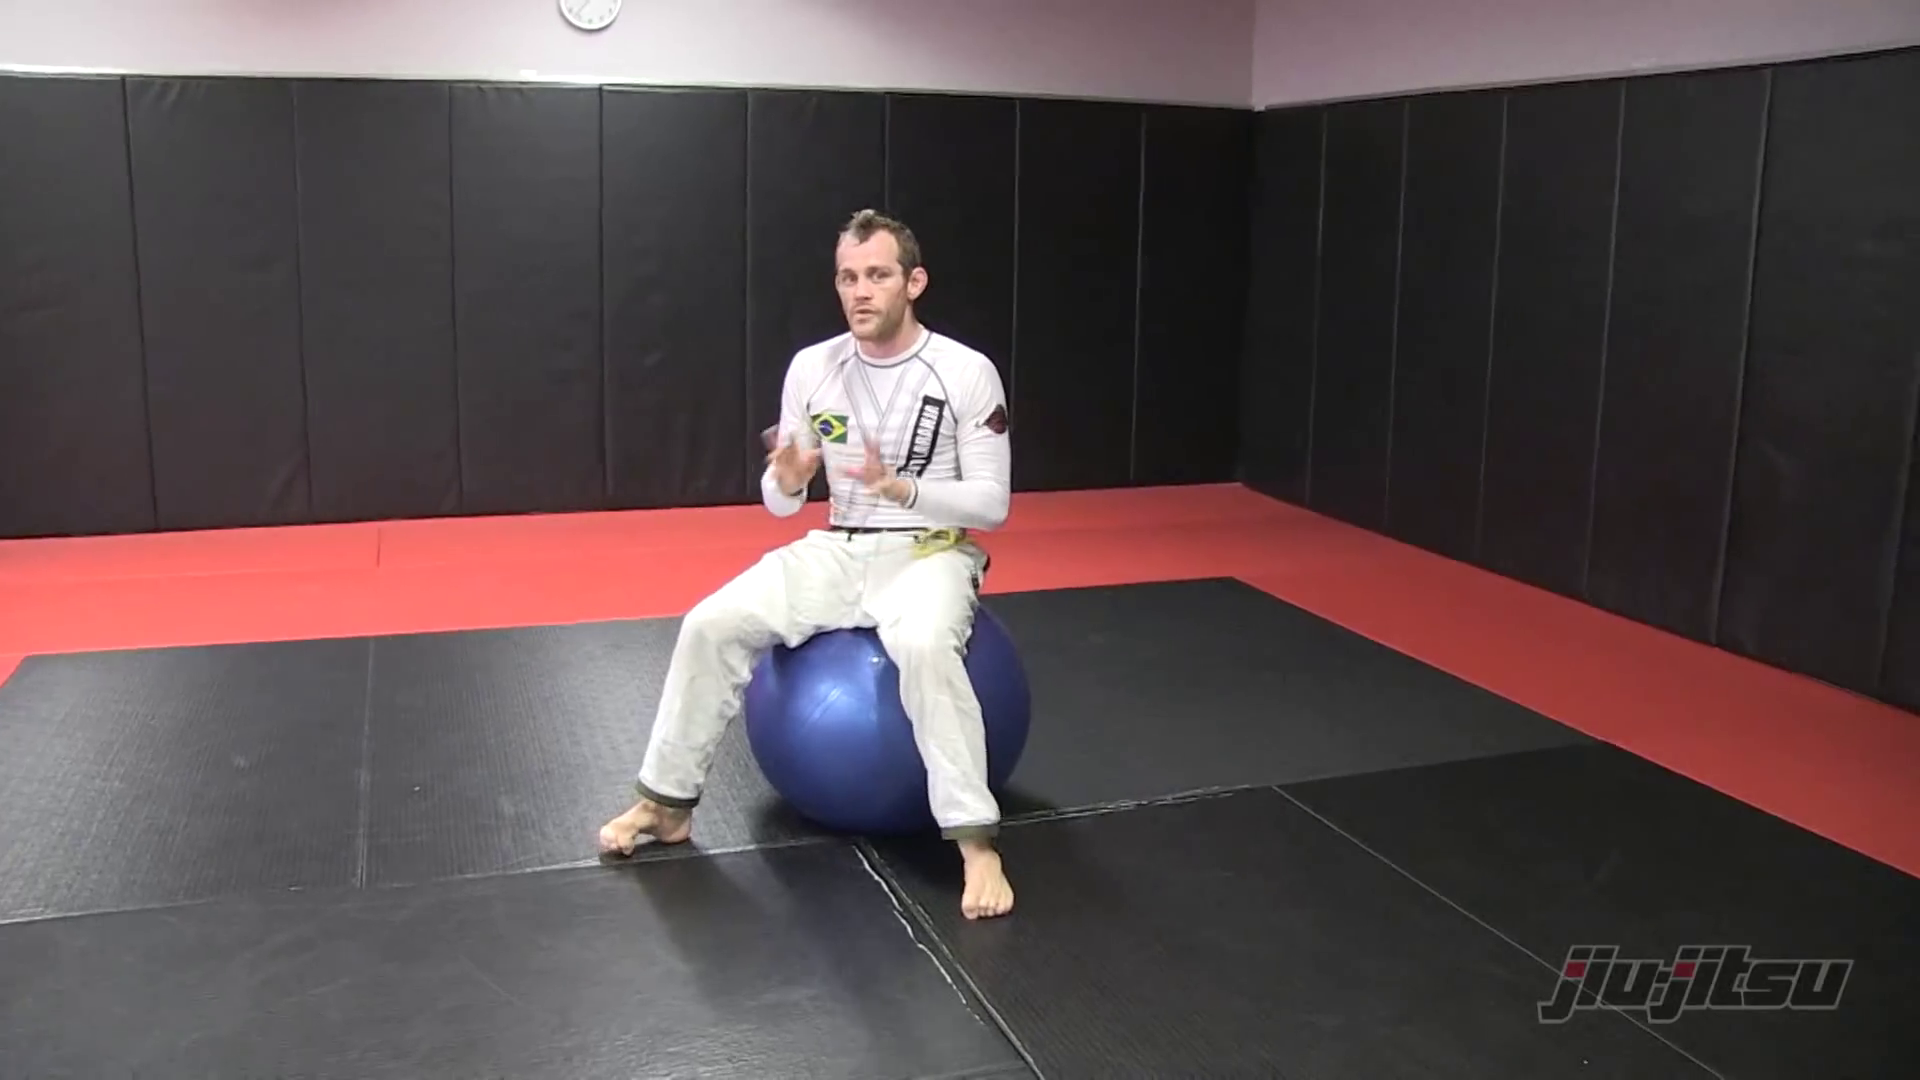yogaball: (723, 616, 1051, 843)
